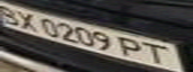0: (36, 15, 60, 38), (75, 25, 93, 47)
2: (54, 20, 78, 44)
9: (93, 29, 115, 52)
B: (0, 2, 24, 26)
P: (118, 35, 148, 60)
T: (142, 41, 181, 66)
X: (15, 9, 42, 32)
